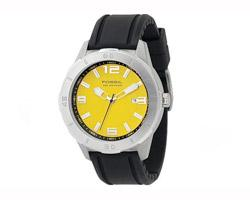watch: (60, 49, 169, 157)
